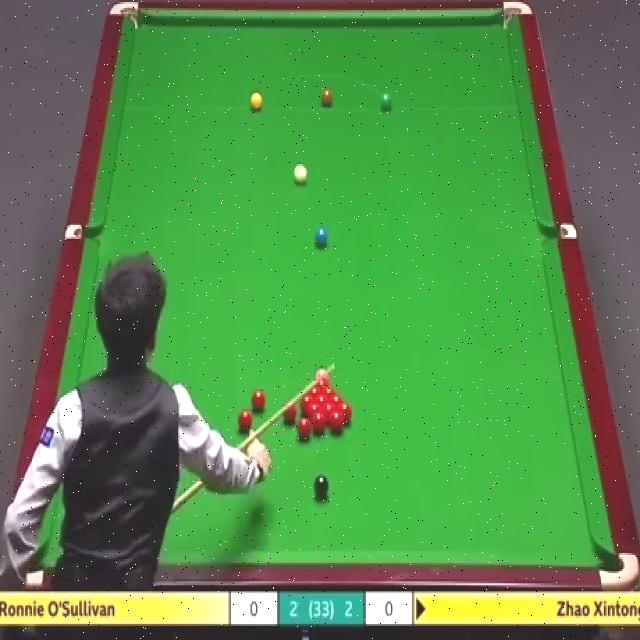black-ball: (314, 474, 329, 498)
blue-ball: (314, 228, 328, 245)
brown-ball: (321, 89, 333, 108)
green-ball: (378, 90, 394, 112)
pink-ball: (315, 368, 330, 383)
red-ball: (296, 416, 314, 438), (327, 412, 345, 434), (314, 410, 329, 432), (238, 409, 252, 432), (335, 402, 350, 422), (251, 390, 266, 410), (282, 402, 297, 422), (323, 403, 336, 424), (301, 394, 313, 406), (316, 395, 327, 407), (316, 380, 326, 392)
white-ball: (293, 162, 308, 184)
yellow-ball: (250, 91, 263, 112)
